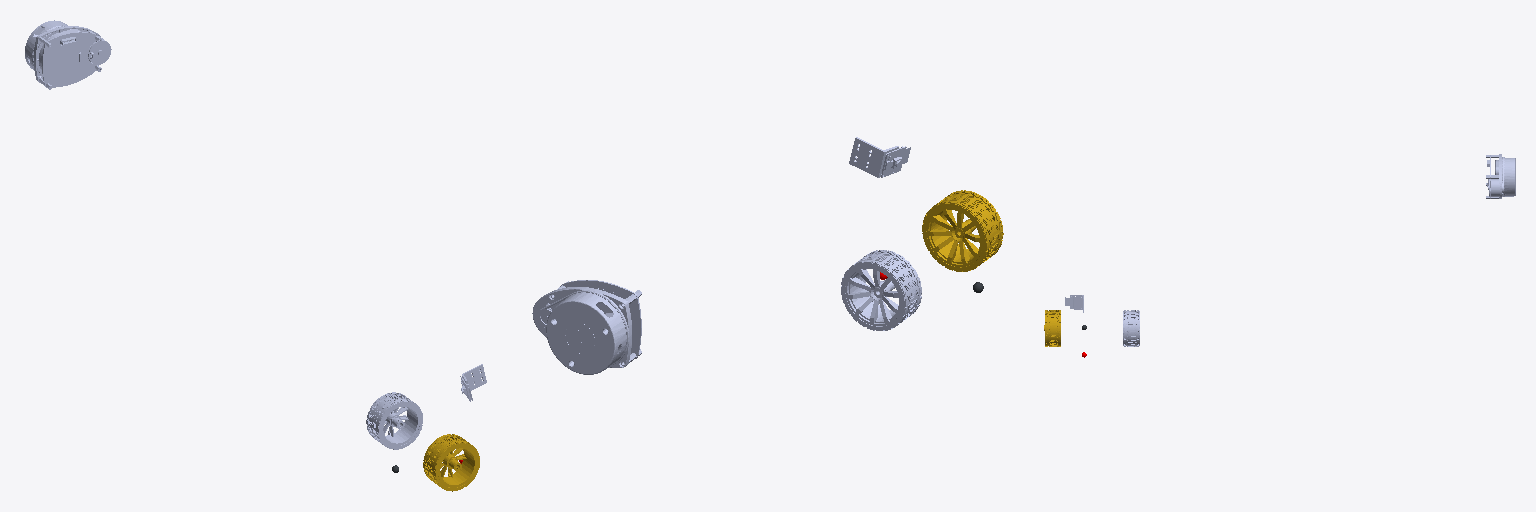
URDF robot description (bumperbot):
<?xml version="1.0" encoding="utf-8"?>
<!-- This URDF was automatically created by SolidWorks to URDF Exporter! Originally created by [author] ([email redacted]) 
     Commit Version: 1.6.0-4-g7f85cfe  Build Version: 1.6.7995.38578
     For more information, please see http://wiki.ros.org/sw_urdf_exporter -->
<robot
  name="bumperbot">
  <link
    name="base_link">
    <inertial>
      <origin
        xyz="-0.00200985226721885 -0.00277448578669156 0.0152338681517865"
        rpy="0 0 0" />
      <mass
        value="0.091306007508054" />
      <inertia
        ixx="2.35544148873919E-05"
        ixy="8.03602673249987E-08"
        ixz="-1.30819394891217E-07"
        iyy="9.54438344720788E-06"
        iyz="3.13041624475309E-09"
        izz="2.77362876053001E-05" />
    </inertial>
    <visual>
      <origin
        xyz="0 0 0"
        rpy="0 0 0" />
      <geometry>
        <mesh
          filename="package://bumperbot_description/meshes/base_link.STL" />
      </geometry>
      <material
        name="">
        <color
          rgba="0.258823529411765 0.27843137254902 0.301960784313725 1" />
      </material>
    </visual>
    <collision>
      <origin
        xyz="0 0 0"
        rpy="0 0 0" />
      <geometry>
        <mesh
          filename="package://bumperbot_description/meshes/base_link.STL" />
      </geometry>
    </collision>
  </link>
  <link
    name="wheel_right_link">
    <inertial>
      <origin
        xyz="-0.000573251467595723 0.000358738960939631 -0.0137052643929229"
        rpy="0 0 0" />
      <mass
        value="0.0530086090966721" />
      <inertia
        ixx="1.88176298336665E-05"
        ixy="-1.88163708851148E-08"
        ixz="4.84449330300028E-10"
        iyy="1.8801969558182E-05"
        iyz="-6.93560663069259E-11"
        izz="3.11510738647764E-05" />
    </inertial>
    <visual>
      <origin
        xyz="0 0 0"
        rpy="0 0 0" />
      <geometry>
        <mesh
          filename="package://bumperbot_description/meshes/wheel_right_link.STL" />
      </geometry>
      <material
        name="">
        <color
          rgba="0.831372549019608 0.670588235294118 0.129411764705882 1" />
      </material>
    </visual>
    <collision>
      <origin
        xyz="0 0 0"
        rpy="0 0 0" />
      <geometry>
        <mesh
          filename="package://bumperbot_description/meshes/wheel_right_link.STL" />
      </geometry>
    </collision>
  </link>
  <joint
    name="wheel_right_joint"
    type="continuous">
    <origin
      xyz="0 -0.0701101849418637 0"
      rpy="1.5707963267949 0 -3.14159265358979" />
    <parent
      link="base_link" />
    <child
      link="wheel_right_link" />
    <axis
      xyz="0 0 1" />
  </joint>
  <link
    name="wheel_left_link">
    <inertial>
      <origin
        xyz="2.95829049789739E-05 -0.000675598564550212 0.0137052653316193"
        rpy="0 0 0" />
      <mass
        value="0.0530086043217644" />
      <inertia
        ixx="1.87896350584212E-05"
        ixy="-2.95771466523293E-09"
        ixz="-1.78539276135639E-10"
        iyy="1.88299649251724E-05"
        iyz="-4.55866460634388E-10"
        izz="3.11510738759073E-05" />
    </inertial>
    <visual>
      <origin
        xyz="0 0 0"
        rpy="0 0 0" />
      <geometry>
        <mesh
          filename="package://bumperbot_description/meshes/wheel_left_link.STL" />
      </geometry>
      <material
        name="">
        <color
          rgba="0.792156862745098 0.819607843137255 0.933333333333333 1" />
      </material>
    </visual>
    <collision>
      <origin
        xyz="0 0 0"
        rpy="0 0 0" />
      <geometry>
        <mesh
          filename="package://bumperbot_description/meshes/wheel_left_link.STL" />
      </geometry>
    </collision>
  </link>
  <joint
    name="wheel_left_joint"
    type="continuous">
    <origin
      xyz="0 0.07011 0"
      rpy="1.5708 0.36986 3.1416" />
    <parent
      link="base_link" />
    <child
      link="wheel_left_link" />
    <axis
      xyz="0 0 1" />
  </joint>
  <link
    name="caster_front_link">
    <inertial>
      <origin
        xyz="3.89968128948481E-07 2.40073004698083E-07 0.00219173397061508"
        rpy="0 0 0" />
      <mass
        value="1.44379265037903E-06" />
      <inertia
        ixx="7.23075276010246E-11"
        ixy="-6.10956883470484E-16"
        ixz="2.22849693525298E-15"
        iyy="3.8713793085917E-11"
        iyz="2.93909858782035E-15"
        izz="1.00967486676306E-10" />
    </inertial>
    <visual>
      <origin
        xyz="0 0 0"
        rpy="0 0 0" />
      <geometry>
        <mesh
          filename="package://bumperbot_description/meshes/caster_front_link.STL" />
      </geometry>
      <material
        name="">
        <color
          rgba="1 0 0 1" />
      </material>
    </visual>
    <collision>
      <origin
        xyz="0 0 0"
        rpy="0 0 0" />
      <geometry>
        <mesh
          filename="package://bumperbot_description/meshes/caster_front_link.STL" />
      </geometry>
    </collision>
  </link>
  <joint
    name="caster_front_joint"
    type="fixed">
    <origin
      xyz="0.04755 0 -0.025363"
      rpy="0 0 0" />
    <parent
      link="base_link" />
    <child
      link="caster_front_link" />
    <axis
      xyz="0 0 0" />
  </joint>
  <link
    name="caster_rear_link">
    <inertial>
      <origin
        xyz="3.8996812895542E-07 2.40073004698083E-07 0.00219173397061508"
        rpy="0 0 0" />
      <mass
        value="1.44379265037902E-06" />
      <inertia
        ixx="7.23075276010246E-11"
        ixy="-6.10956872361808E-16"
        ixz="2.22849693527258E-15"
        iyy="3.87137930859167E-11"
        iyz="2.9390985878634E-15"
        izz="1.00967486676306E-10" />
    </inertial>
    <visual>
      <origin
        xyz="0 0 0"
        rpy="0 0 0" />
      <geometry>
        <mesh
          filename="package://bumperbot_description/meshes/caster_rear_link.STL" />
      </geometry>
      <material
        name="">
        <color
          rgba="0.258823529411765 0.27843137254902 0.301960784313725 1" />
      </material>
    </visual>
    <collision>
      <origin
        xyz="0 0 0"
        rpy="0 0 0" />
      <geometry>
        <mesh
          filename="package://bumperbot_description/meshes/caster_rear_link.STL" />
      </geometry>
    </collision>
  </link>
  <joint
    name="caster_rear_joint"
    type="fixed">
    <origin
      xyz="-0.04755 0 -0.025363"
      rpy="0 0 0" />
    <parent
      link="base_link" />
    <child
      link="caster_rear_link" />
    <axis
      xyz="0 0 0" />
  </joint>
  <link
    name="camera_link">
    <inertial>
      <origin
        xyz="-0.0122943599302166 -9.05173297063161E-07 0.00843684900384603"
        rpy="0 0 0" />
      <mass
        value="0.0041086489783227" />
      <inertia
        ixx="3.98797447678453E-07"
        ixy="-8.24558929782798E-11"
        ixz="1.22069699665359E-07"
        iyy="4.18205575812023E-07"
        iyz="-1.01562924198136E-10"
        izz="4.28578734986183E-07" />
    </inertial>
    <visual>
      <origin
        xyz="0 0 0"
        rpy="0 0 0" />
      <geometry>
        <mesh
          filename="package://bumperbot_description/meshes/camera_link.STL" />
      </geometry>
      <material
        name="">
        <color
          rgba="0.792156862745098 0.819607843137255 0.933333333333333 1" />
      </material>
    </visual>
    <collision>
      <origin
        xyz="0 0 0"
        rpy="0 0 0" />
      <geometry>
        <mesh
          filename="package://bumperbot_description/meshes/camera_link.STL" />
      </geometry>
    </collision>
  </link>
  <joint
    name="camera_joint"
    type="fixed">
    <origin
      xyz="0.081561 0 0.067457"
      rpy="0 -0.23739 0" />
    <parent
      link="base_link" />
    <child
      link="camera_link" />
    <axis
      xyz="0 0 0" />
  </joint>
  <link
    name="laser_link">
    <inertial>
      <origin
        xyz="-0.0119457804049108 -0.000381929219549923 -0.0170649378127913"
        rpy="0 0 0" />
      <mass
        value="0.0730844355551672" />
      <inertia
        ixx="1.96074931767898E-05"
        ixy="-3.62091075918031E-07"
        ixz="4.28230083856567E-07"
        iyy="2.40983835138717E-05"
        iyz="1.5018092052353E-08"
        izz="4.14184164260692E-05" />
    </inertial>
    <visual>
      <origin
        xyz="0 0 0"
        rpy="0 0 0" />
      <geometry>
        <mesh
          filename="package://bumperbot_description/meshes/laser_link.STL" />
      </geometry>
      <material
        name="">
        <color
          rgba="0.792156862745098 0.819607843137255 0.933333333333333 1" />
      </material>
    </visual>
    <collision>
      <origin
        xyz="0 0 0"
        rpy="0 0 0" />
      <geometry>
        <mesh
          filename="package://bumperbot_description/meshes/laser_link.STL" />
      </geometry>
    </collision>
  </link>
  <joint
    name="laser_joint"
    type="fixed">
    <origin
      xyz="-0.0050526 -0.0023221 0.1208"
      rpy="0 0 0" />
    <parent
      link="base_link" />
    <child
      link="laser_link" />
    <axis
      xyz="0 0 0" />
  </joint>
  <link
    name="imu_link">
    <inertial>
      <origin
        xyz="-0.00552433659106688 0.000168210391520346 0.000514000497342681"
        rpy="0 0 0" />
      <mass
        value="0.000528415362211671" />
      <inertia
        ixx="1.46176048428261E-08"
        ixy="1.4001511794942E-10"
        ixz="-1.99633872937415E-12"
        iyy="8.59662482954888E-09"
        iyz="7.52375112767954E-12"
        izz="2.30279421279312E-08" />
    </inertial>
    <visual>
      <origin
        xyz="0 0 0"
        rpy="0 0 0" />
      <geometry>
        <mesh
          filename="package://bumperbot_description/meshes/imu_link.STL" />
      </geometry>
      <material
        name="">
        <color
          rgba="0.792156862745098 0.819607843137255 0.933333333333333 1" />
      </material>
    </visual>
    <collision>
      <origin
        xyz="0 0 0"
        rpy="0 0 0" />
      <geometry>
        <mesh
          filename="package://bumperbot_description/meshes/imu_link.STL" />
      </geometry>
    </collision>
  </link>
  <joint
    name="imu_joint"
    type="fixed">
    <origin
      xyz="0 0 0.0698986241758014"
      rpy="3.14159265358979 0 0" />
    <parent
      link="base_link" />
    <child
      link="imu_link" />
    <axis
      xyz="0 0 0" />
  </joint>
</robot>

--- Facts derived from the render (not from the file) ---
The picture shows the robot from 3 angles, left to right: view 1: azimuth 30°, elevation 25°; view 2: azimuth 150°, elevation 25°; view 3: azimuth 270°, elevation 25°; orthographic projection.
Model bumperbot with 8 links and 7 joints (2 continuous, 5 fixed), rooted at base_link, posed every joint at zero.
Visible links, largest first — view 1: laser_link, wheel_left_link, wheel_right_link, camera_link; view 2: laser_link, wheel_right_link, wheel_left_link, camera_link; view 3: laser_link, wheel_left_link, wheel_right_link.
Boxes of the visible links, <box> form: laser_link: <box>25,20,111,89</box>; wheel_left_link: <box>366,392,422,449</box>; wheel_right_link: <box>423,434,479,491</box>; camera_link: <box>460,364,486,401</box>; laser_link: <box>532,280,641,374</box>; wheel_right_link: <box>922,190,1003,271</box>; wheel_left_link: <box>841,250,921,330</box>; camera_link: <box>849,137,910,177</box>; laser_link: <box>1486,154,1515,198</box>; wheel_left_link: <box>1123,310,1139,346</box>; wheel_right_link: <box>1044,310,1060,346</box>.
Size in the robot's own frame: 0.2131 by 0.8418 by 0.3245 metres.
Meshes: 8 distinct files referenced, 6 mesh visuals loaded (6 binary STL); not drawn: 2 (reference not matched to a file when rendering).